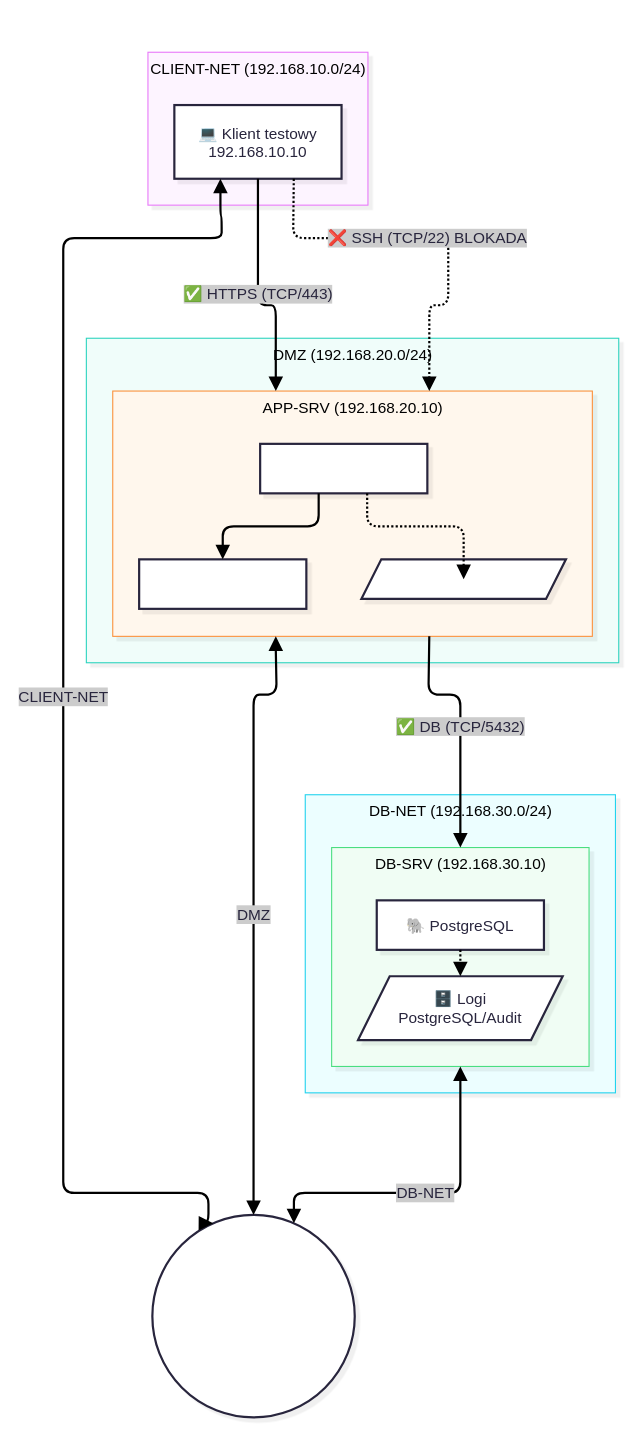
Image size: 642x1441. Some labels were removed from this diagram. Here are the shapes that lost their labels. From the top down, the centre of each, then its label:
(x=345, y=470): 🛡️ Nginx + WAF
(x=224, y=586): ⚙️ Aplikacja Flask
(x=465, y=581): 🗄️ Logi WAF/Audit
(x=255, y=1317): 🌐 Router (3 interfejsy)
